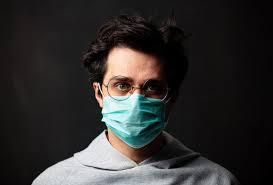mask: (96, 91, 173, 148)
sunglasses: (105, 74, 175, 105)
